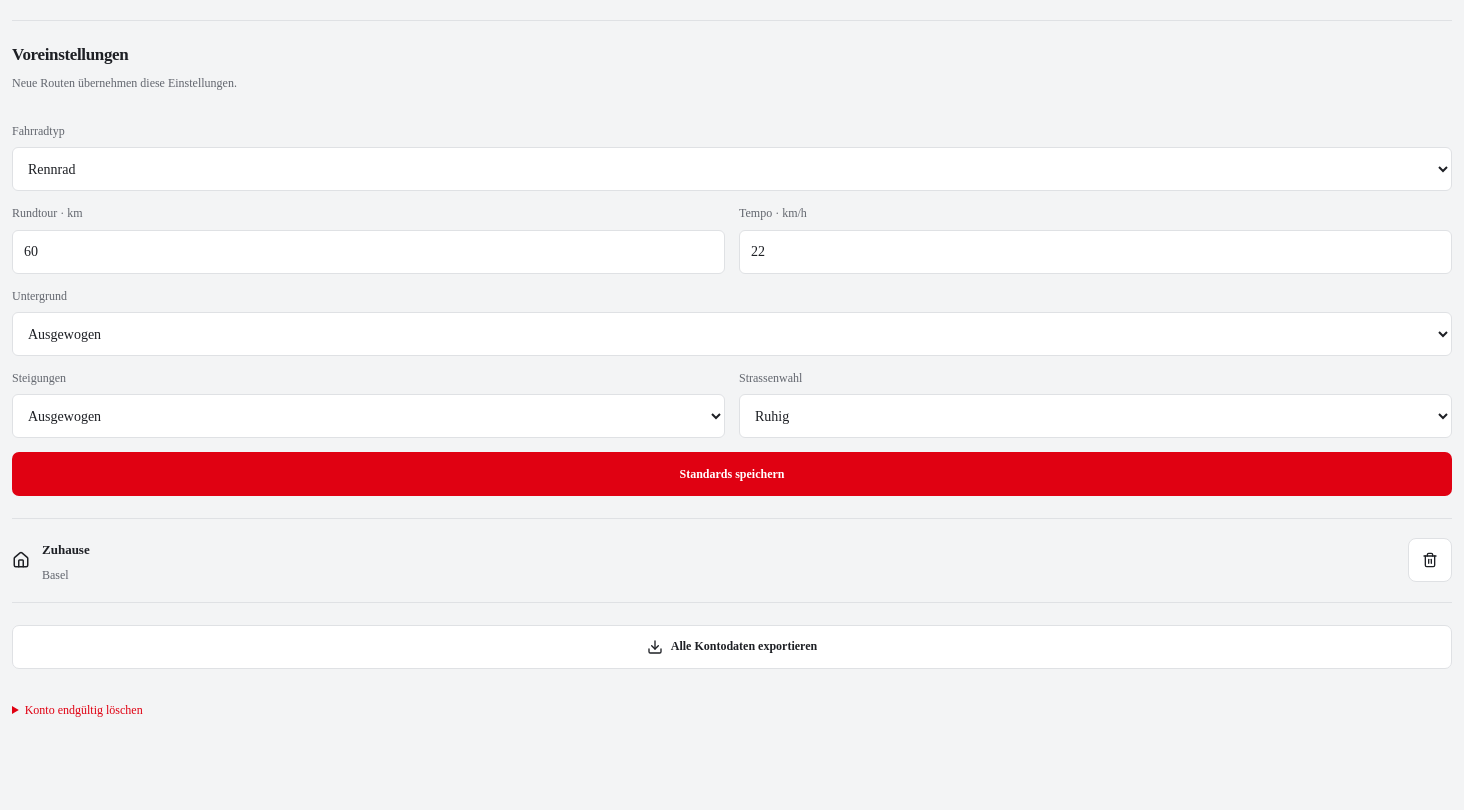
Test case: account settings › keeps input after an outage and removes home only after success
The image size is (1464, 810).
Expected: the text "Basel" is shown, [42, 568, 69, 582]
Click the button named "Zuhause entfernen" at [1430, 560], box [1408, 538, 1452, 582]
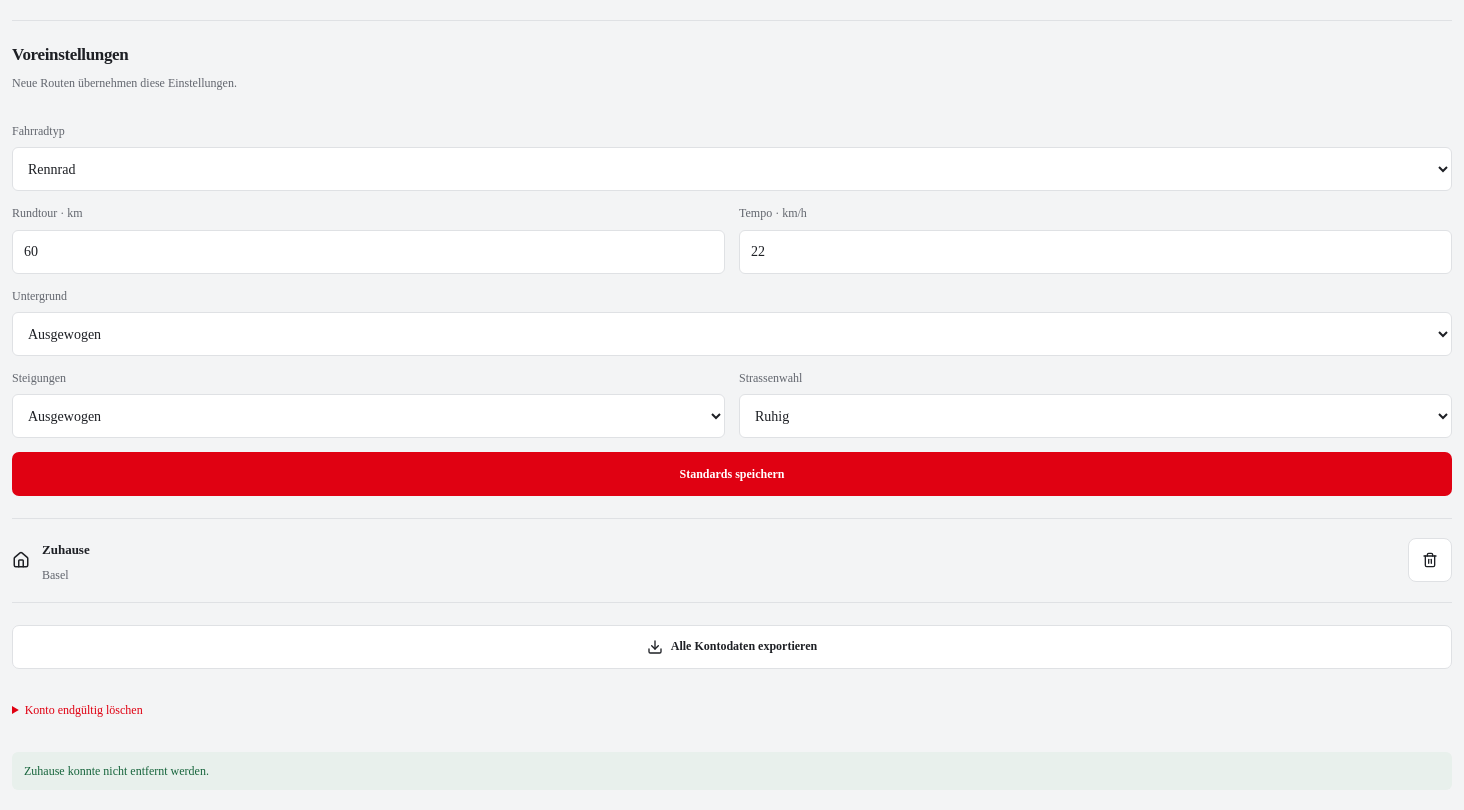
Expected: the text "Basel" is shown, [42, 568, 69, 582]
Now the text "Zuhause konnte nicht entfernt werden." is shown, box [12, 752, 1452, 790]
